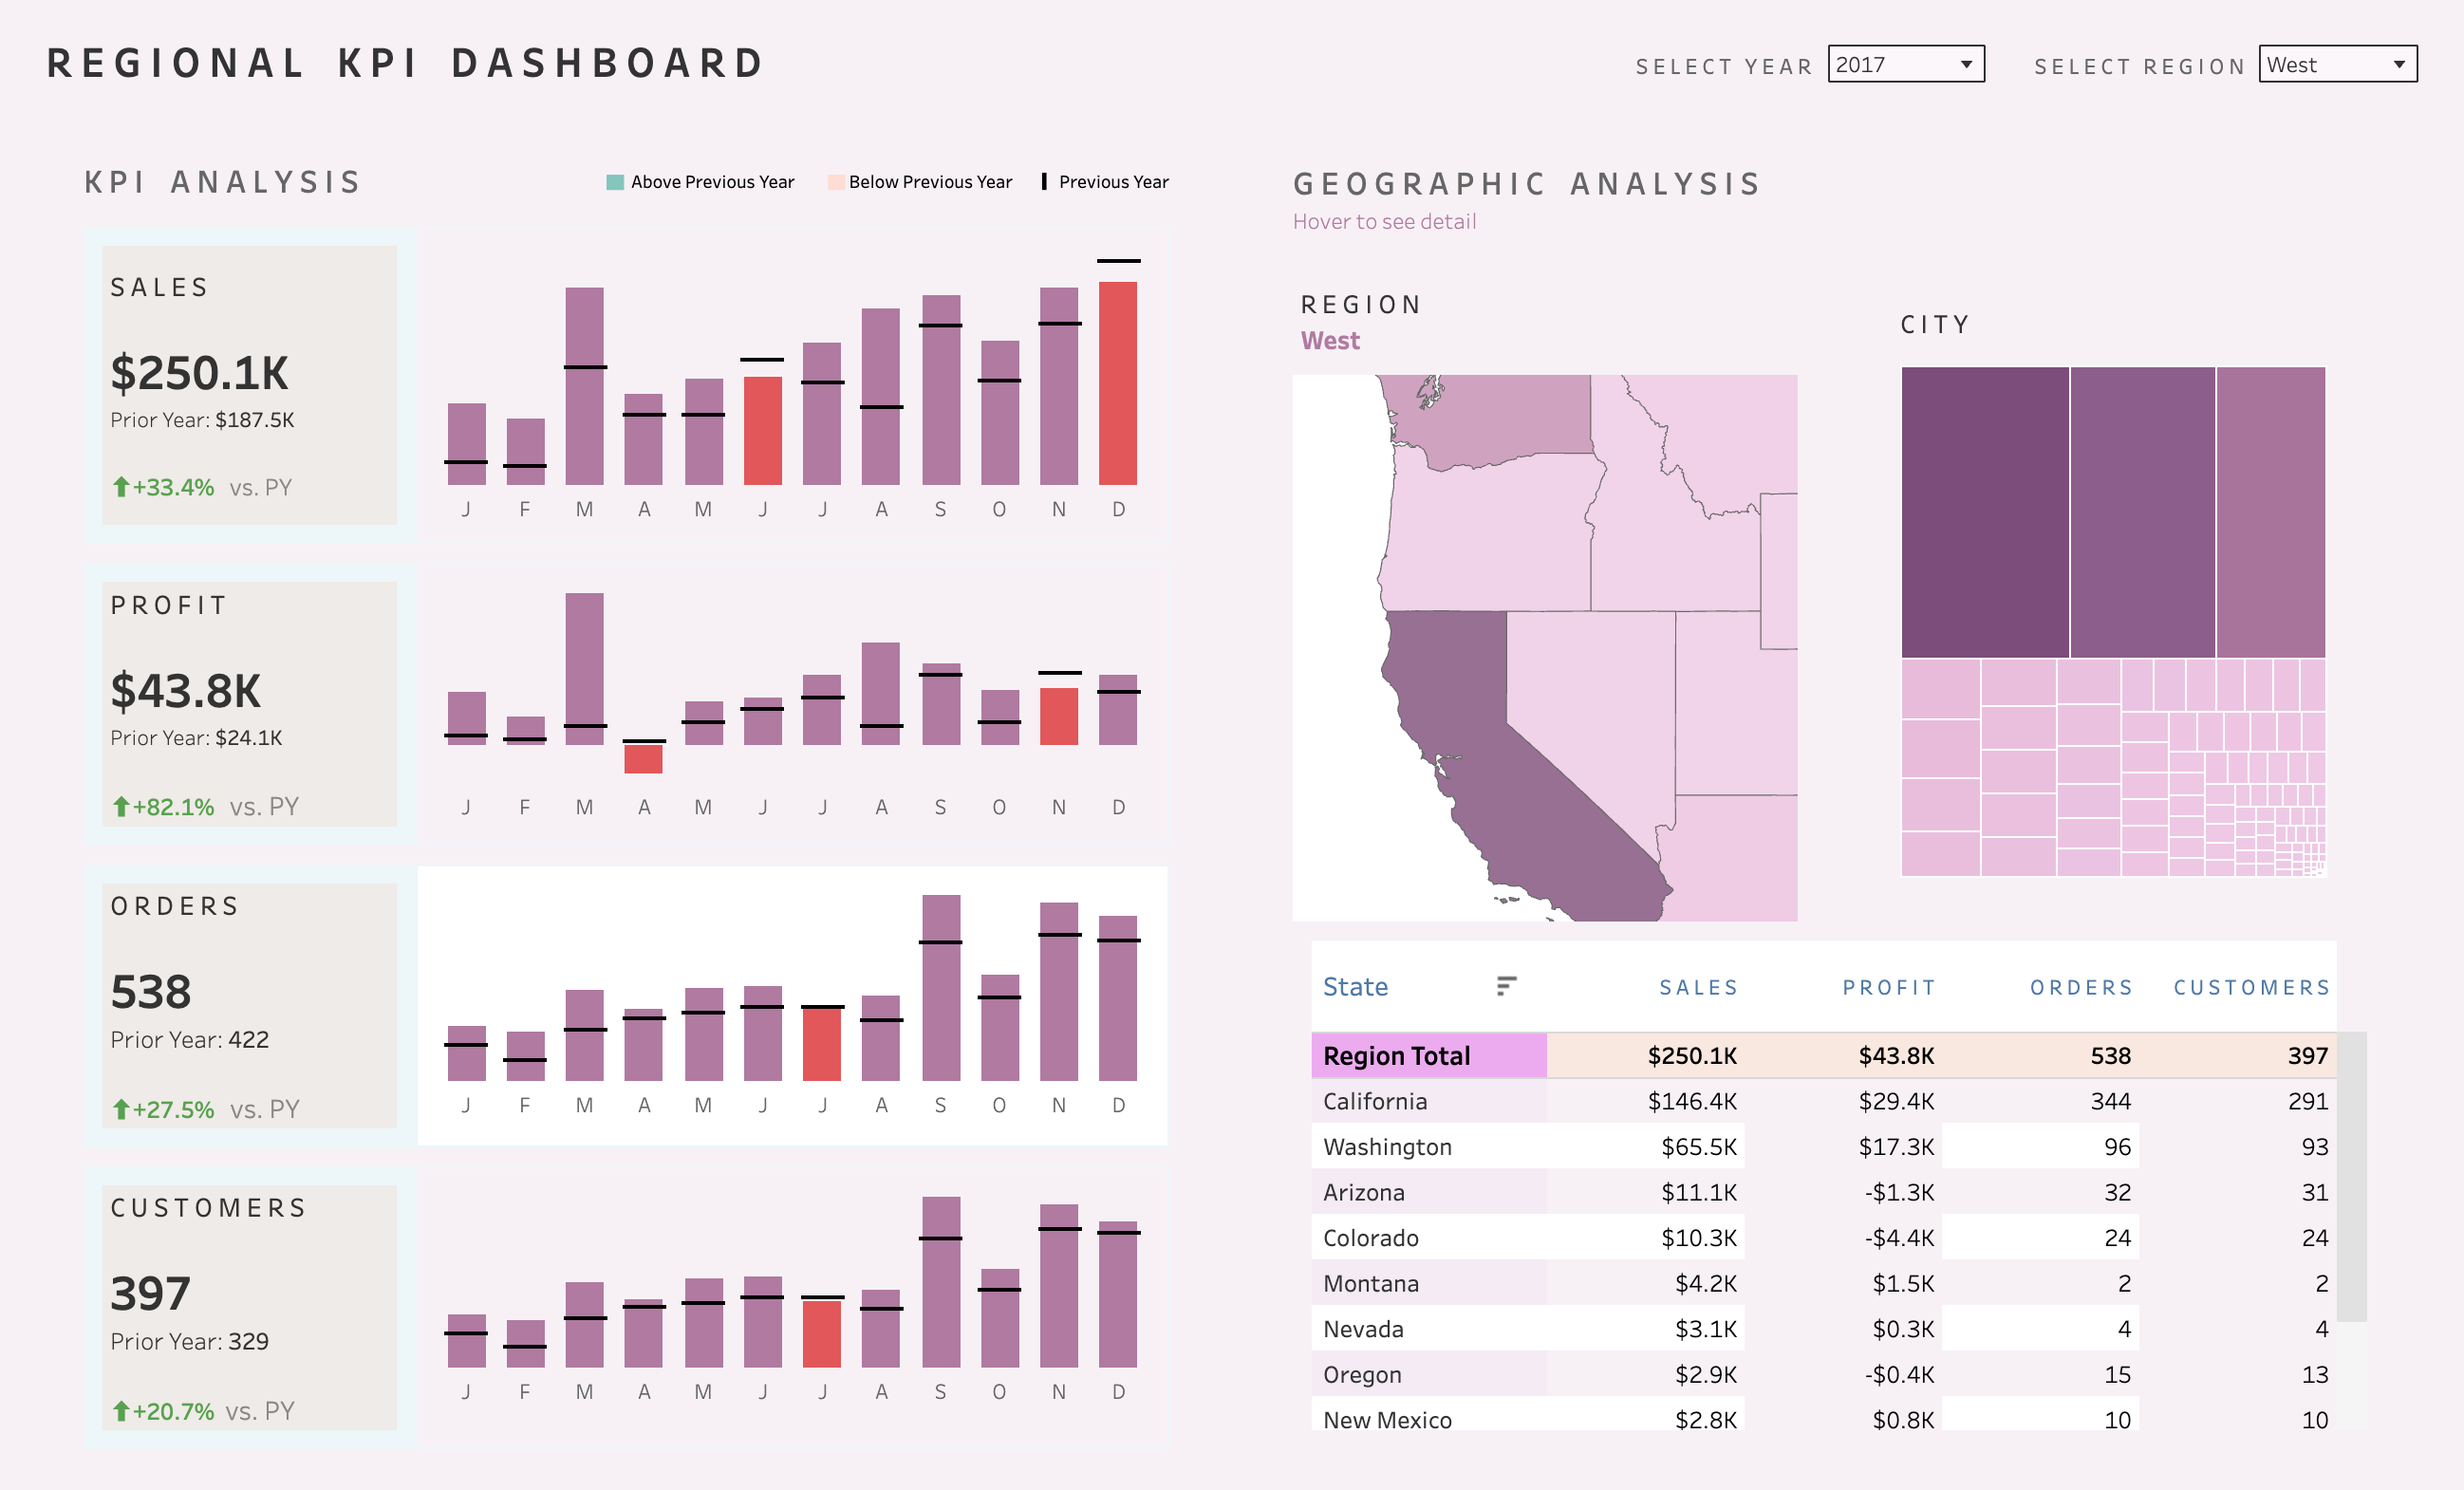

This screenshot's page, from the dashboard's own definition file:
{"tool":"tableau","page":{"name":"Dashboard","canvas":[1300,800],"ordinal":0},"visuals":[{"type":"image","param":"Image/Background Regional .png","box":[0,0,1300,800]},{"type":"text","box":[10,10,845,51]},{"type":"text","box":[855,10,108,51]},{"type":"parameter","param":"[Parameters].[Parameter 1]","box":[963,10,85,51]},{"type":"blank","box":[1048,10,20,51]},{"type":"text","box":[1068,10,120,51]},{"type":"parameter","param":"[Parameters].[Year (copy)_29343813565927424]","box":[1188,10,88,51]},{"type":"blank","box":[632,61,20,729]},{"type":"text","box":[35,71,239,50]},{"type":"text","box":[274,71,343,50]},{"type":"text","box":[682,86,578,38]},{"type":"worksheet","title":"KPI Card: Sales","mark":"Automatic","box":[35,121,185,167]},{"type":"worksheet","title":"Sales Graph","mark":"Bar","rows":["Prior year sales (copy)_3111494802812751883","Calculation_3111494802573352961"],"cols":["Order Date"],"box":[220,121,397,167]},{"type":"worksheet","title":"Region Map","mark":"Multipolygon","box":[682,124,286,371]},{"type":"worksheet","title":"City Picker","mark":"Automatic","box":[968,124,292,371]},{"type":"worksheet","title":"KPI Card: Profit","mark":"Automatic","box":[35,298,185,149]},{"type":"worksheet","title":"Profit Graph","mark":"Bar","rows":["Prior year sales (copy)_3111494803214913570","Latest year sales (copy)_3111494803171999774"],"cols":["Order Date"],"box":[220,298,397,149]},{"type":"worksheet","title":"KPI Card: Orders","mark":"Automatic","box":[35,457,185,149]},{"type":"worksheet","title":"Orders Graph","mark":"Bar","rows":["Selected year orders (copy)_3111494803559206962","Calculation_3111494803559063601"],"cols":["Order Date"],"box":[220,457,397,149]},{"type":"worksheet","title":"Region Table","mark":"Automatic","rows":["State"],"box":[682,495,578,265]},{"type":"worksheet","title":"KPI Card: Customers","mark":"Automatic","box":[35,616,185,149]},{"type":"worksheet","title":"Customers Graph","mark":"Bar","rows":["Prior year orders (copy)_3111494803563184197","Selected year orders (copy)_3111494803562999871"],"cols":["Order Date"],"box":[220,616,397,149]}]}

Visuals, with their boxes in screenshot pixels (x1, y1, x2, y2), scaled from the page's 1300x800 canvas onto the 2464x1490 screenshot:
image: box(0, 0, 2463, 1489)
text: box(19, 19, 1620, 114)
text: box(1620, 19, 1825, 114)
parameter: box(1825, 19, 1987, 114)
blank: box(1987, 19, 2025, 114)
text: box(2025, 19, 2251, 114)
parameter: box(2251, 19, 2418, 114)
blank: box(1198, 114, 1236, 1471)
text: box(66, 132, 519, 225)
text: box(519, 132, 1169, 225)
text: box(1293, 160, 2388, 231)
"KPI Card: Sales" worksheet: box(66, 225, 417, 536)
"Sales Graph" worksheet (Bar marks): box(417, 225, 1169, 536)
"Region Map" worksheet (Multipolygon marks): box(1293, 231, 1835, 922)
"City Picker" worksheet: box(1835, 231, 2388, 922)
"KPI Card: Profit" worksheet: box(66, 555, 417, 832)
"Profit Graph" worksheet (Bar marks): box(417, 555, 1169, 832)
"KPI Card: Orders" worksheet: box(66, 851, 417, 1128)
"Orders Graph" worksheet (Bar marks): box(417, 851, 1169, 1128)
"Region Table" worksheet: box(1293, 922, 2388, 1416)
"KPI Card: Customers" worksheet: box(66, 1147, 417, 1425)
"Customers Graph" worksheet (Bar marks): box(417, 1147, 1169, 1425)
